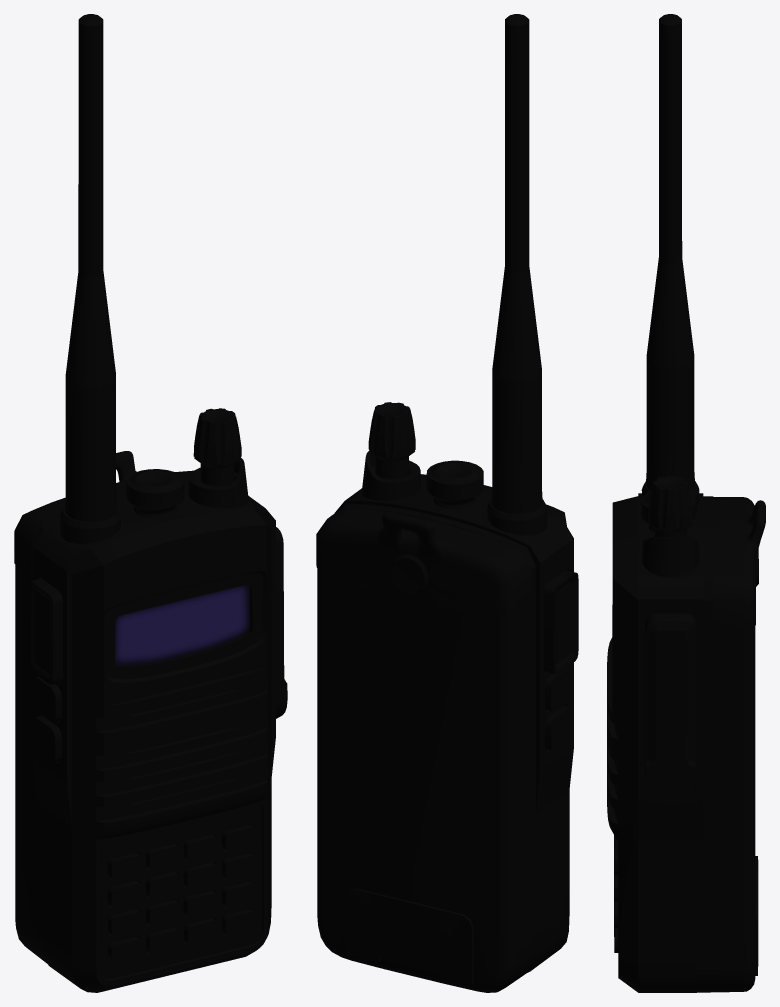
The model's file is walkie_talkie__3d_communication_device.glb.
3 renders of one model, left to right at view 1: azimuth 30°, elevation 25°; view 2: azimuth 150°, elevation 25°; view 3: azimuth 270°, elevation 25°, orthographic. The views are drawn at different scales.
Visible parts, largest first — view 1: Walkie_Talkie_02; view 2: Walkie_Talkie_02; view 3: Walkie_Talkie_02.
Boxes of the visible parts, <box> form: Walkie_Talkie_02: <box>14,14,287,992</box>; Walkie_Talkie_02: <box>316,14,578,992</box>; Walkie_Talkie_02: <box>607,14,765,992</box>.
Size of the model in its own units: 0.0895 by 0.3521 by 0.0556.
Materials: 2 (1 with a texture image).
